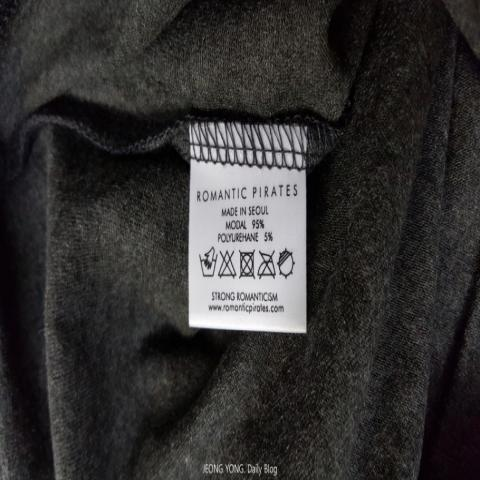DN_bleach: (217, 248, 236, 281)
DN_iron: (257, 248, 277, 281)
DN_tumble_dry: (236, 248, 258, 281)
hand_wash: (196, 248, 220, 282)
shade_dry: (278, 247, 298, 278)
